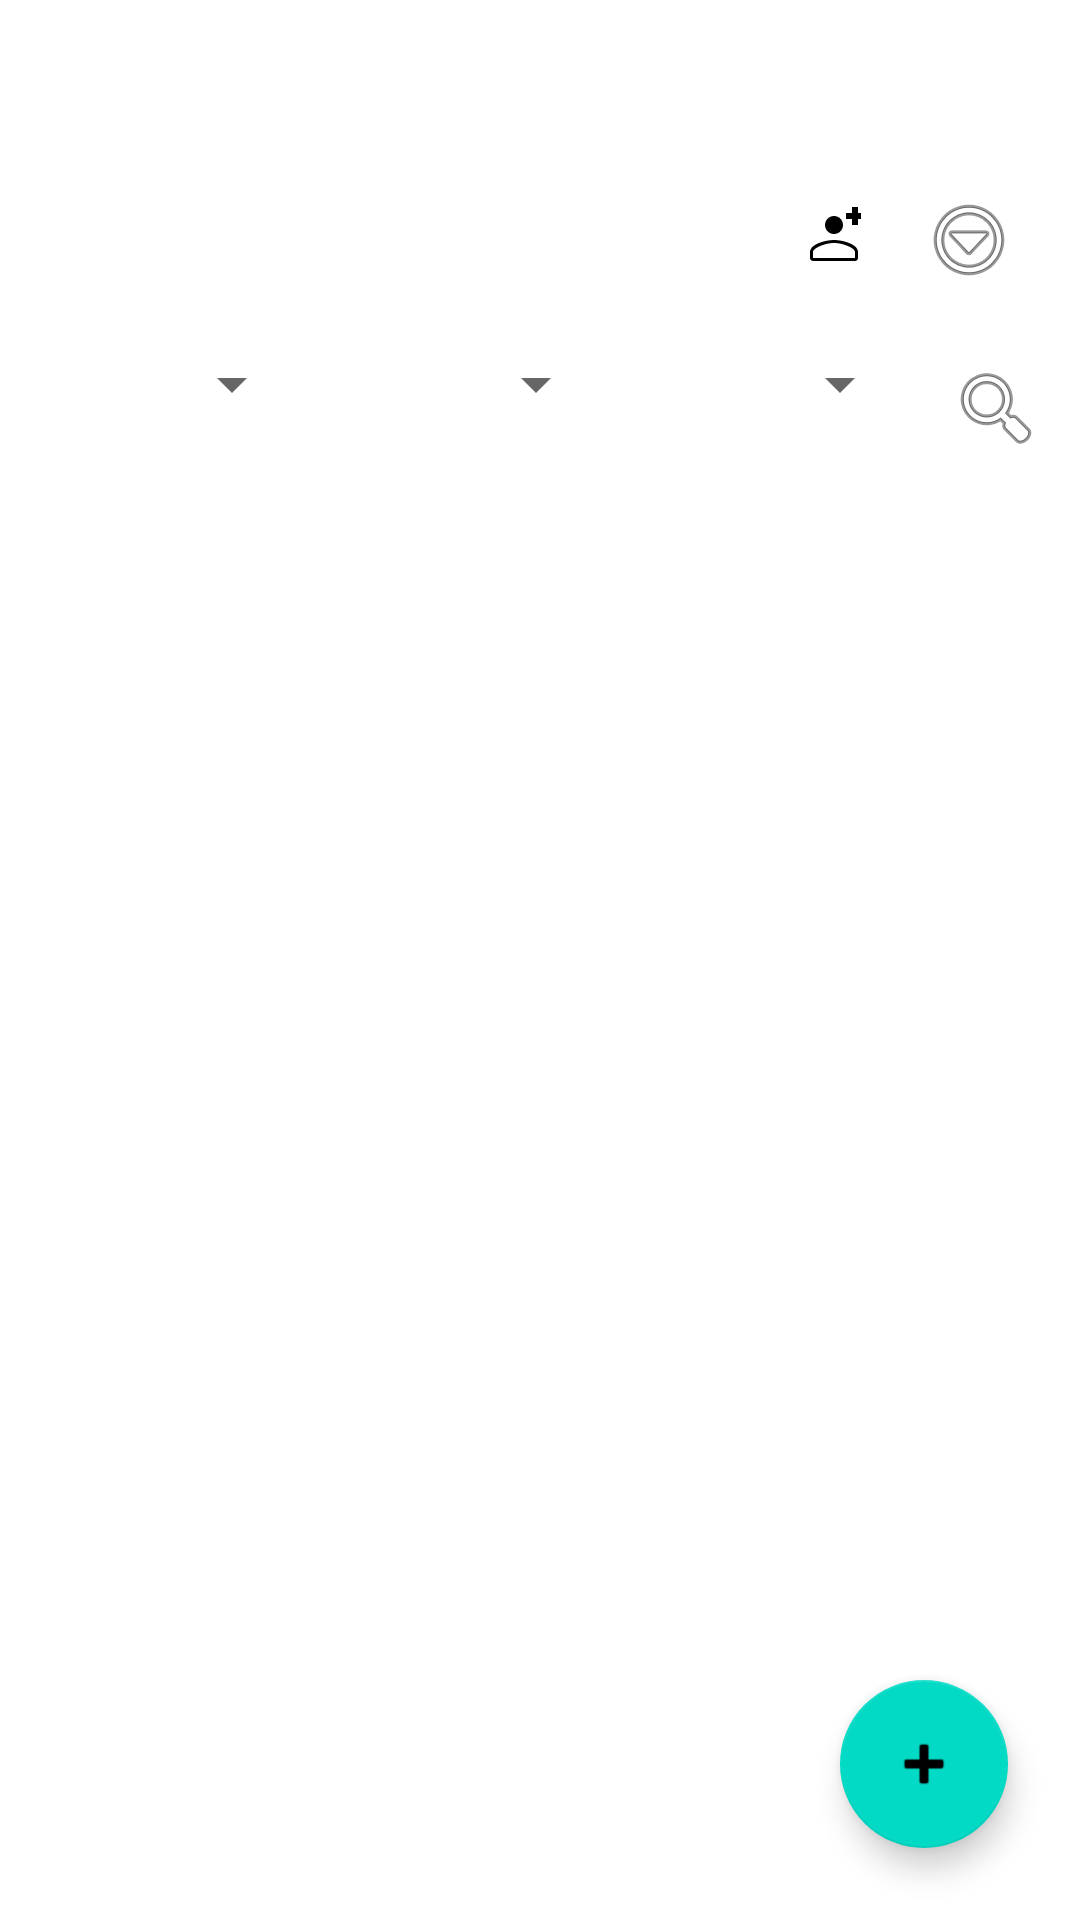

Icon click points for this 1080×1920 phone screenshot, format (x,y):
Add Course: (924,1764)
More Actions: (969,240)
Search: (996,408)
Teacher Management: (835,234)
